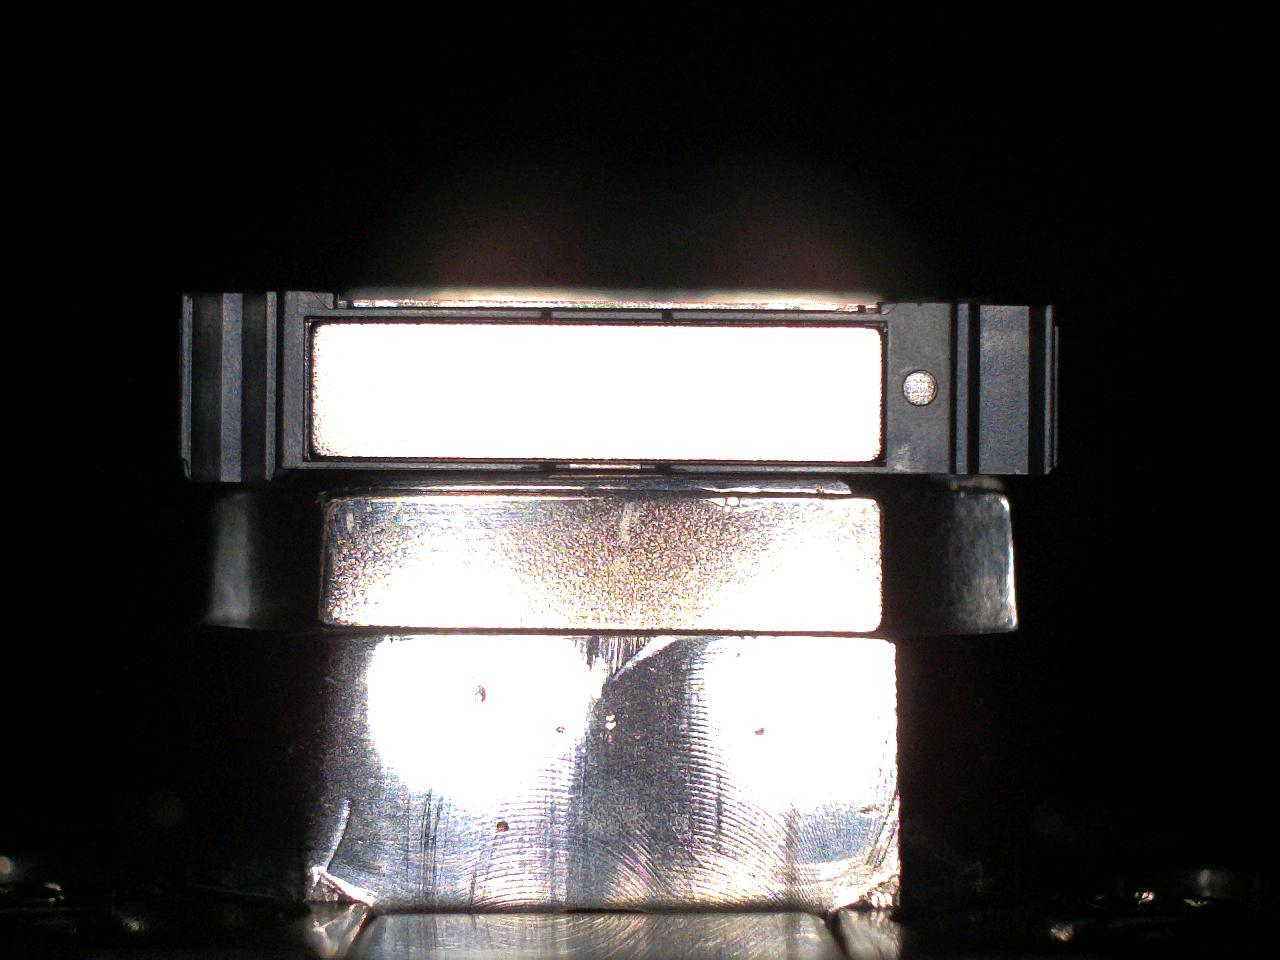frame: (180, 292, 1059, 483), (548, 309, 664, 321)
gap: (306, 457, 543, 466), (669, 458, 887, 467), (673, 319, 883, 328), (312, 316, 543, 324), (550, 319, 663, 327), (553, 458, 658, 465)
magnetic: (312, 323, 881, 463)
